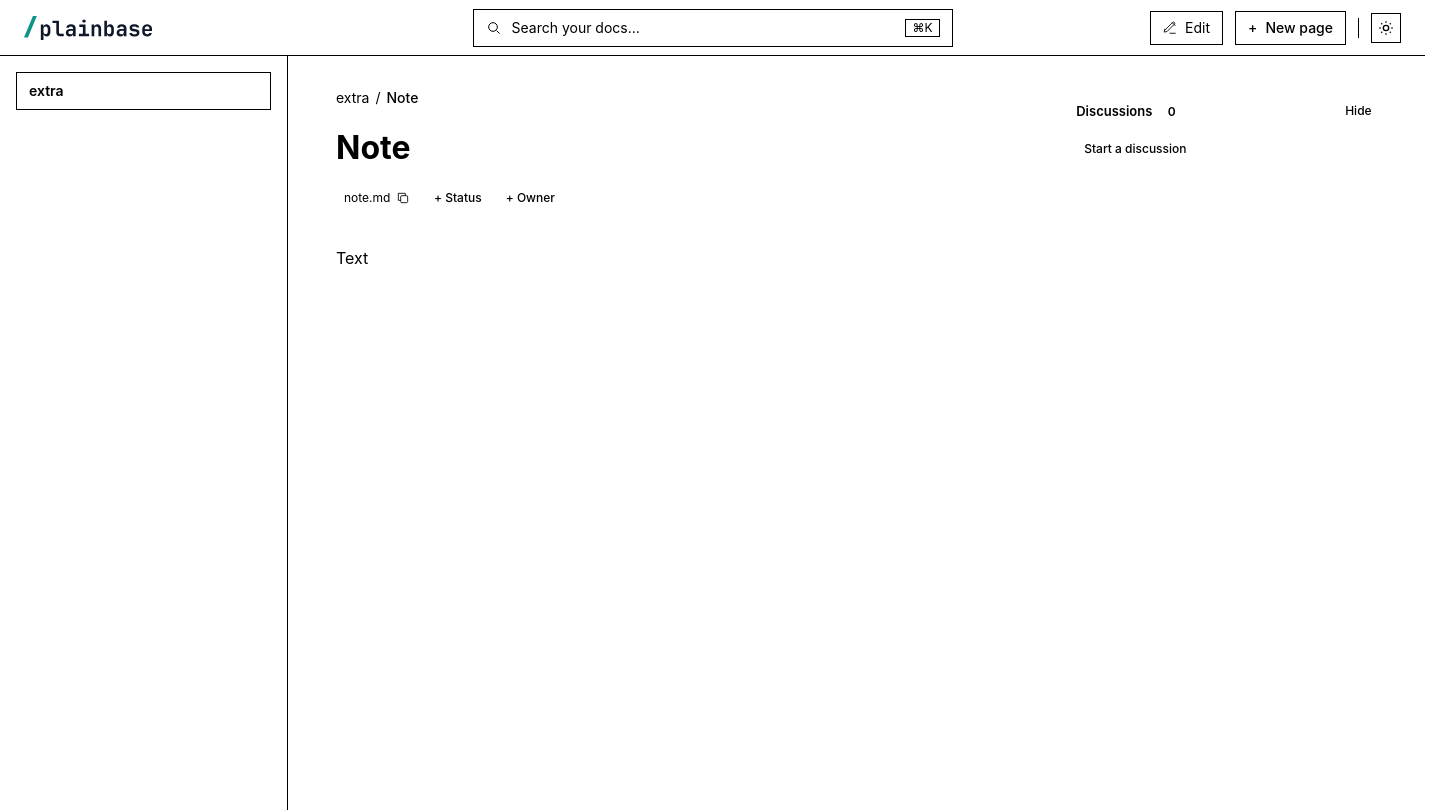
Test case: keeps Refresh beside uncertain creation (network) and retains the draft while inspecting the page list
Click the button "Start a discussion" at (1135, 150), box [1076,137,1194,162]
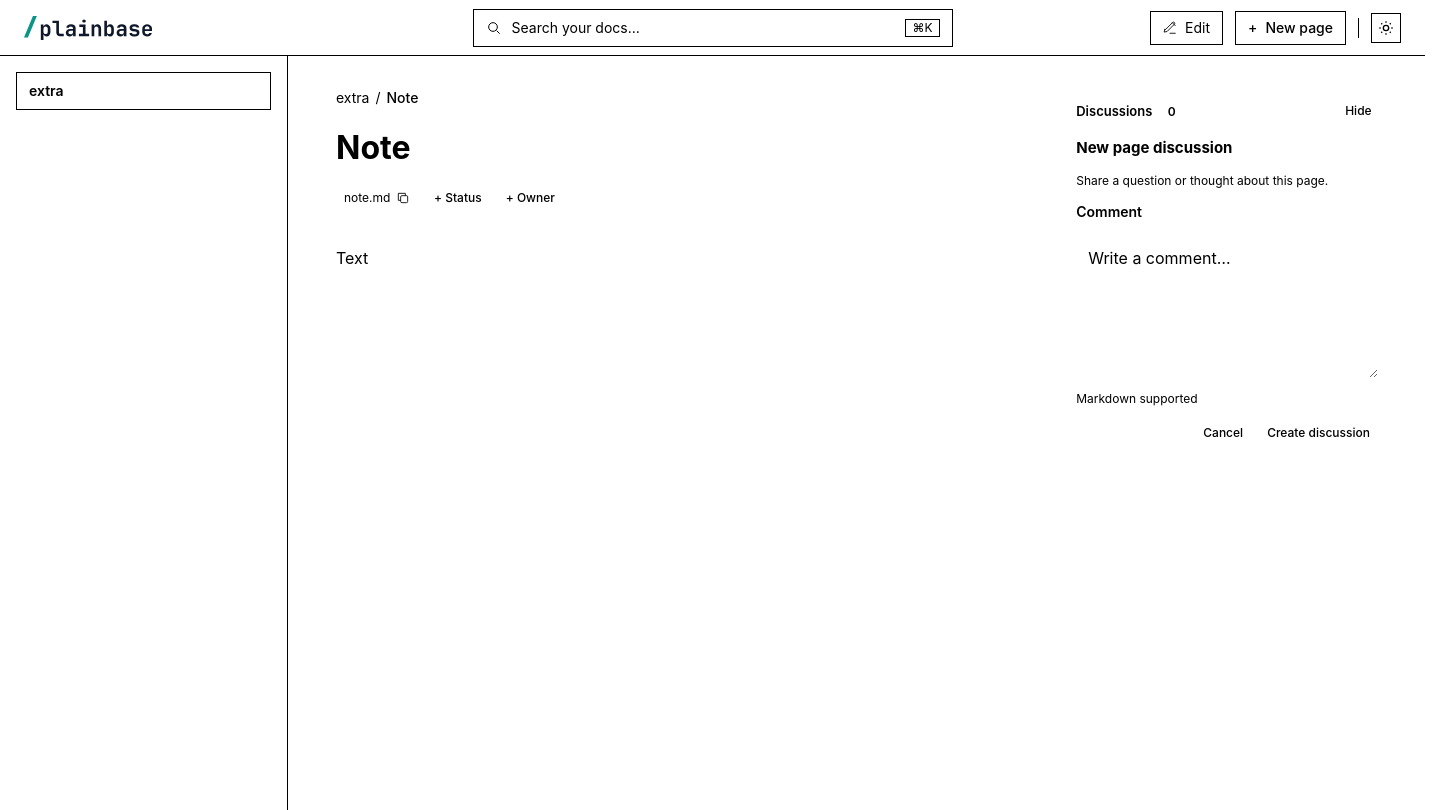
Type "Keep my first comment" into the text box labelled "Comment" at (1227, 306), box [1076,234,1378,378]
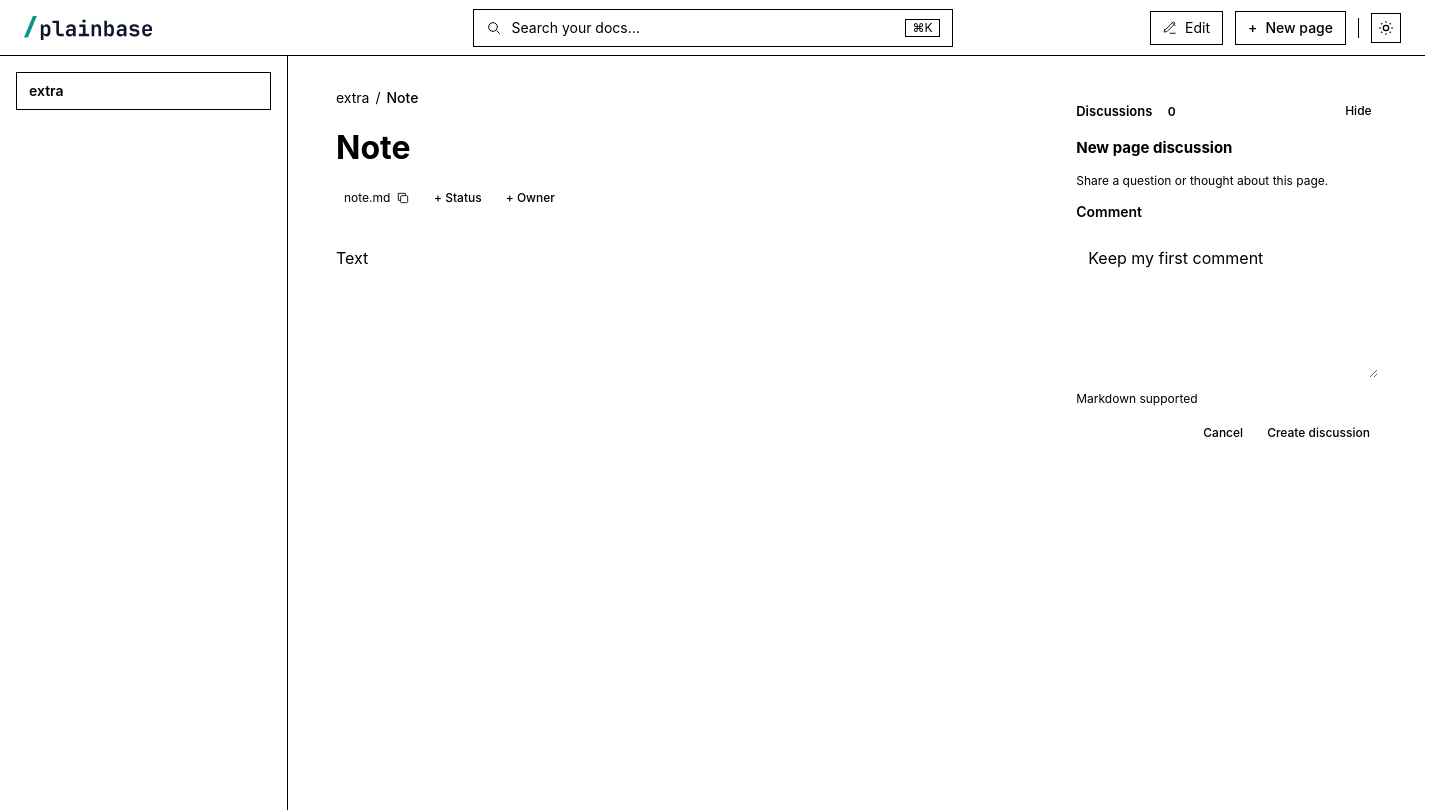
Click the button "Create discussion" at (1319, 433), box [1259,421,1378,446]
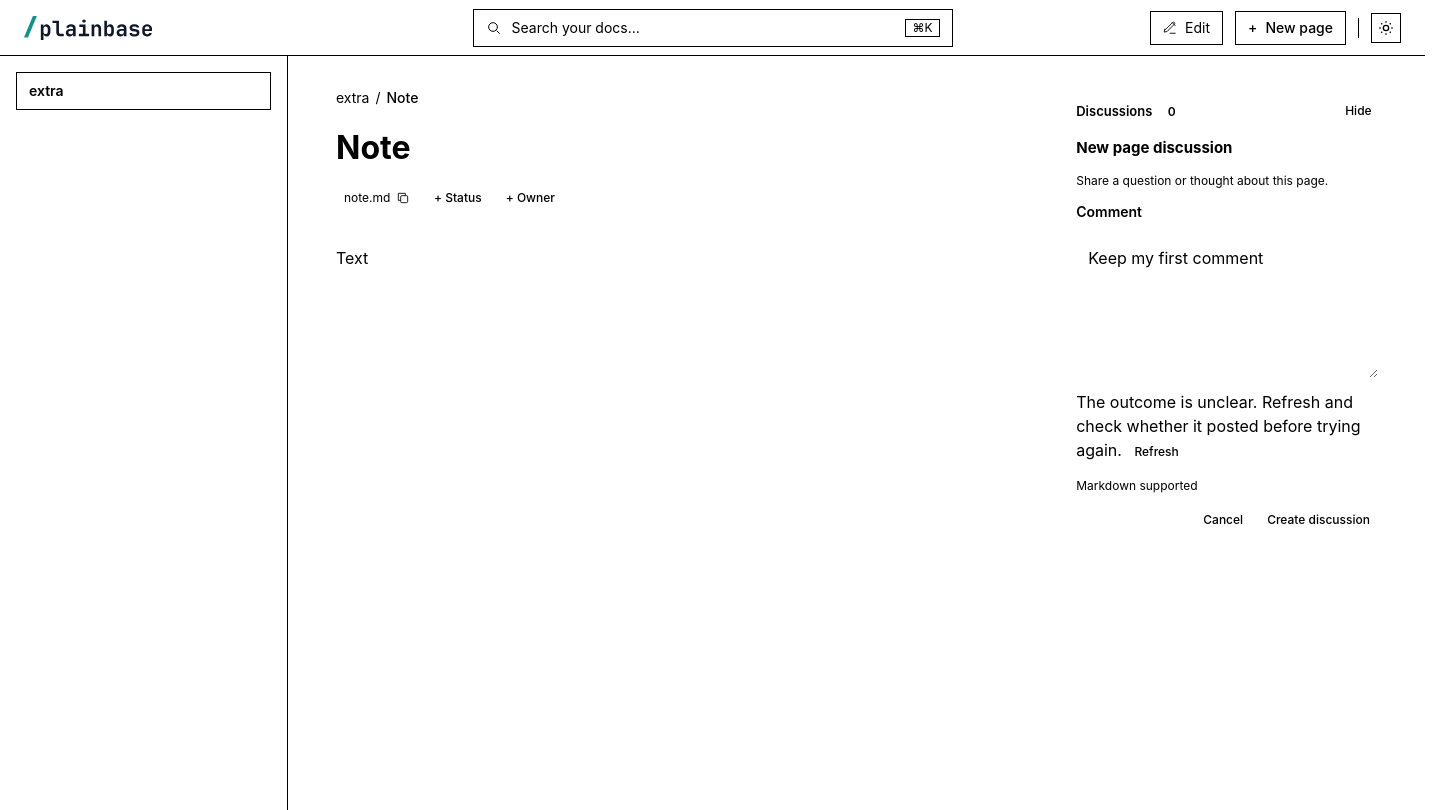
Expected: the message shows "outcome is unclear", [1076,392,1360,460]
Press Escape in the text box labelled "Comment", box [1076,234,1378,378]
Expected: the message shows "outcome is unclear", [1076,392,1360,460]
Click the button "Refresh" at (1157, 453), box [1126,440,1187,465]
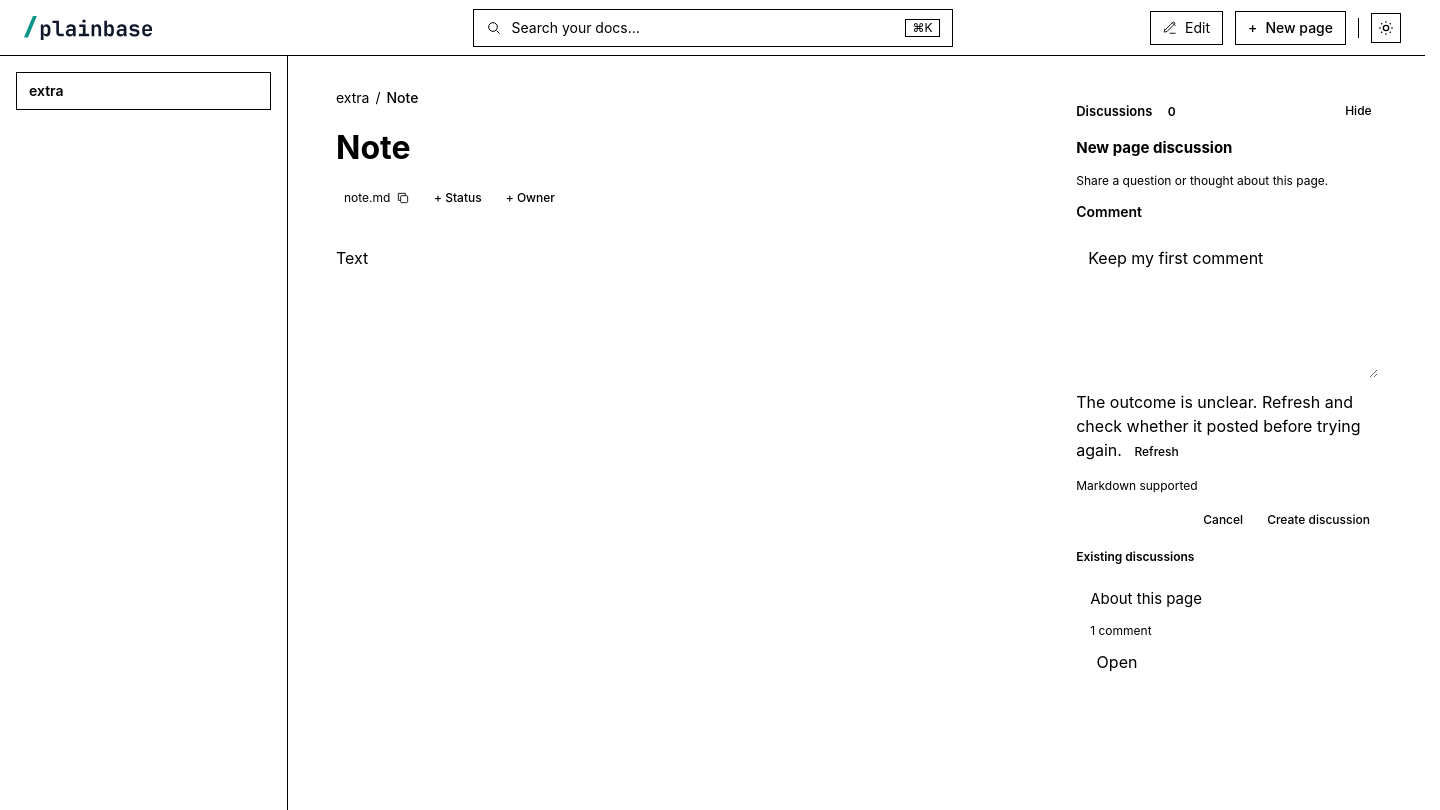
Click the button "About this page 1 comment Open" at (1146, 599), box [1076,574,1378,690]
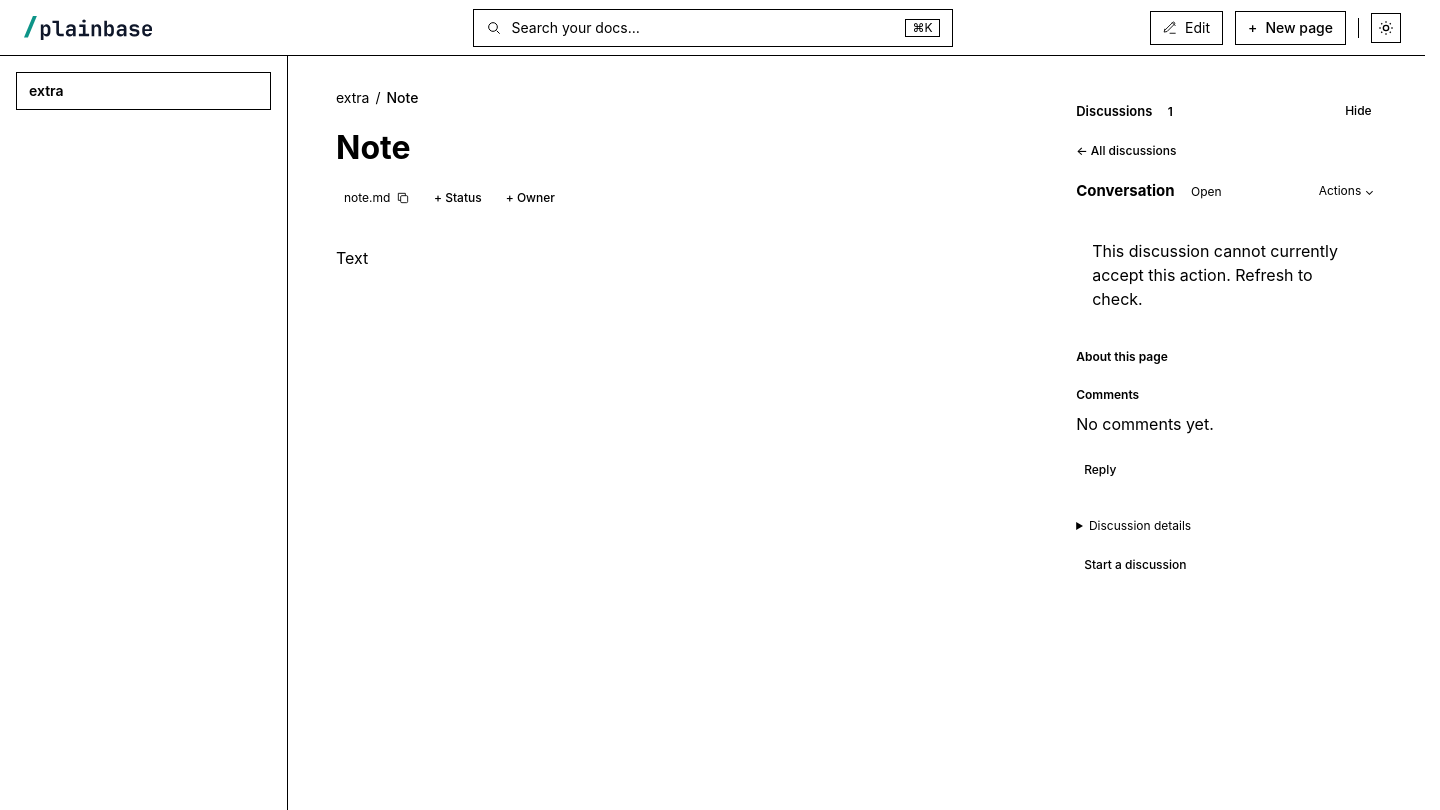
Expected: the heading named "Discussion on note.md" is shown, [1076,180,1175,203]
Click the button with aria-label "Close discussion" at (1130, 152), box [1076,139,1184,164]
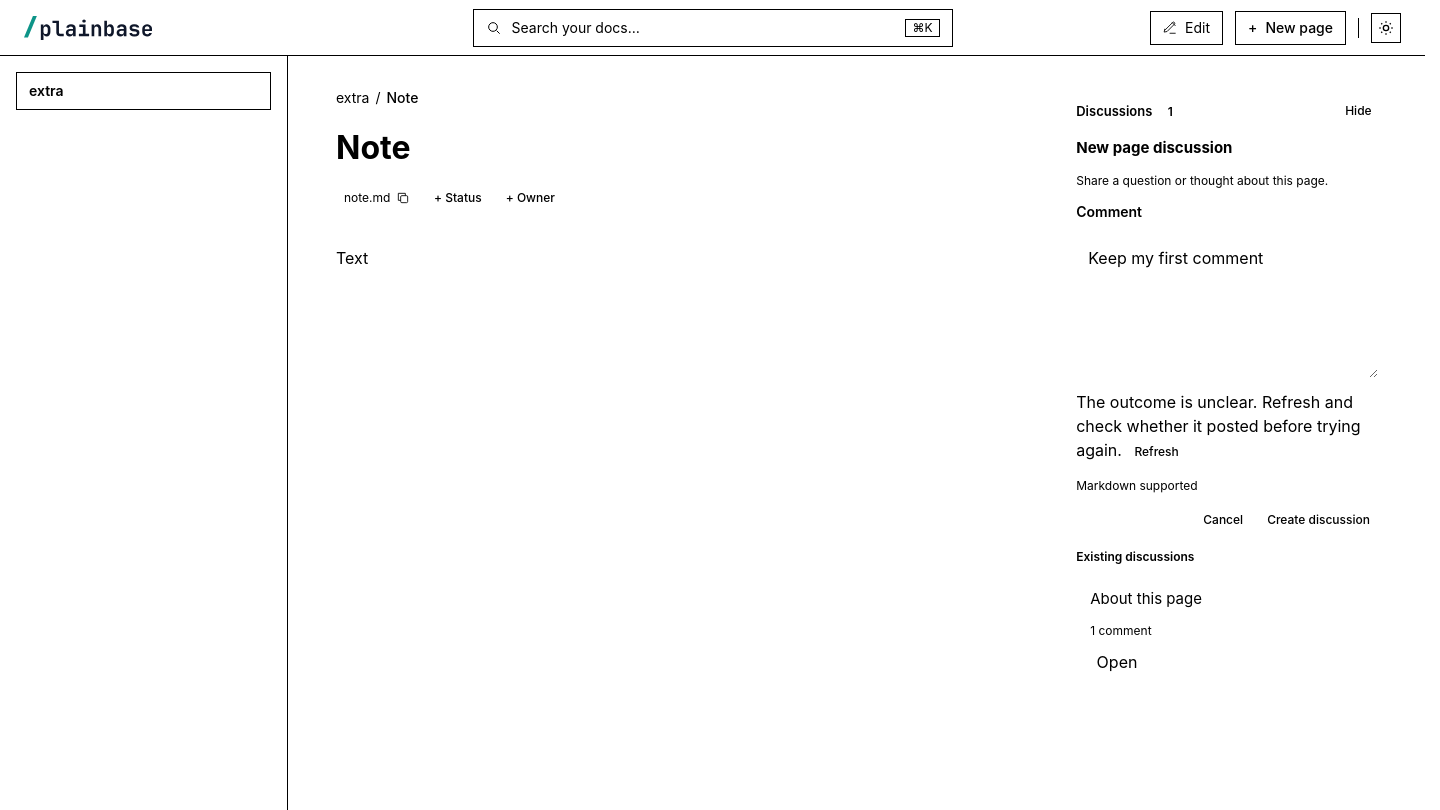
Expected: the text box labelled "Comment" holds "Keep my first comment", [1076,234,1378,378]
